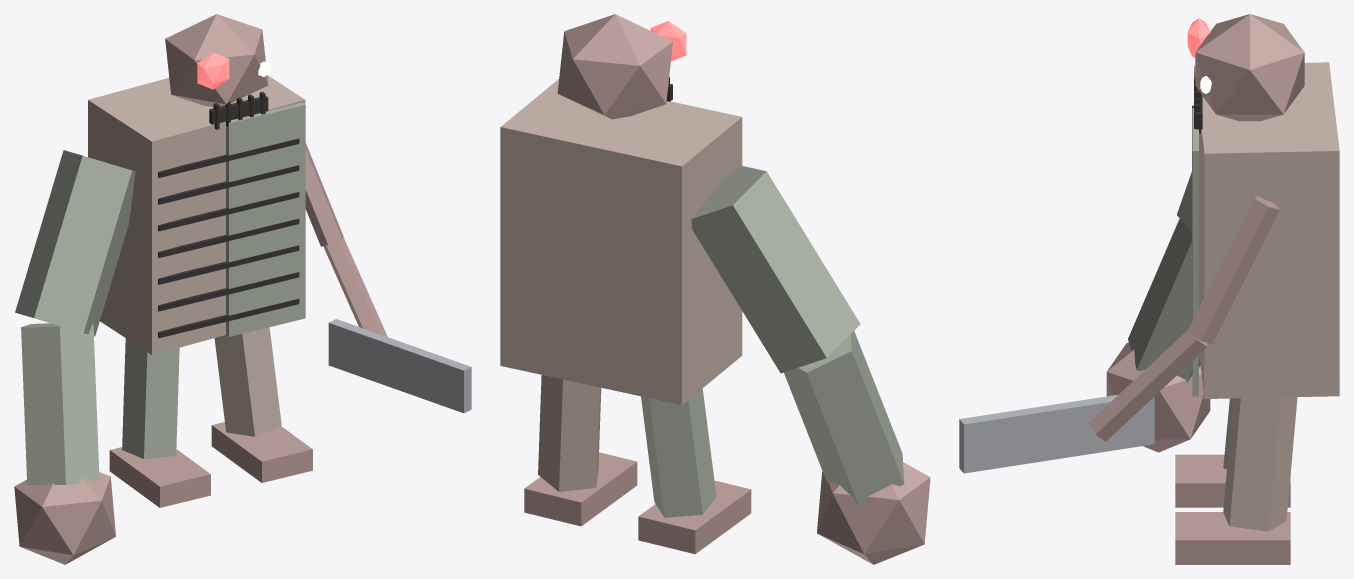
The model's file is stitched_horror.glb.
3 views of the same model, side by side, from view 1: azimuth 30°, elevation 25°; view 2: azimuth 150°, elevation 25°; view 3: azimuth 270°, elevation 25° (orthographic). The views are drawn at different scales.
Parts seen in each view (by area): view 1: stitched_horror; view 2: stitched_horror; view 3: stitched_horror.
Part boxes in pixels (left/top/right/bottom): stitched_horror: left=14, top=14, right=471, bottom=564; stitched_horror: left=500, top=14, right=930, bottom=564; stitched_horror: left=959, top=14, right=1339, bottom=564.
Bounding box in the file's own units: 1.44 × 1.78 × 1.12.
